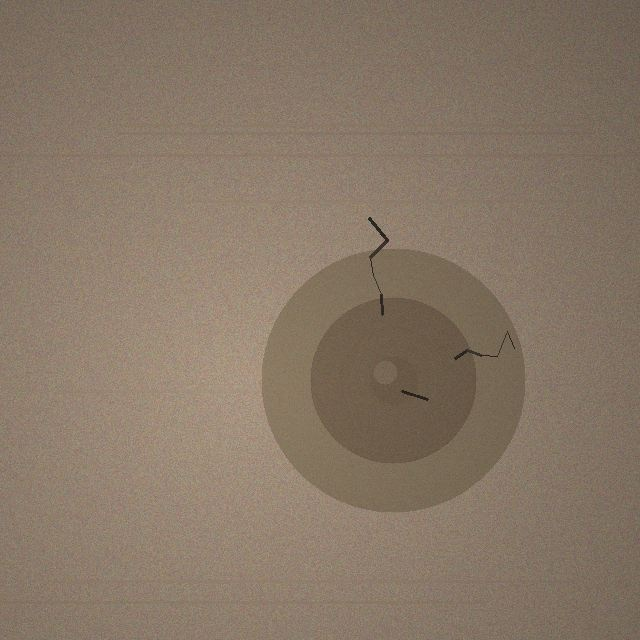crack: (261, 248, 525, 512)
